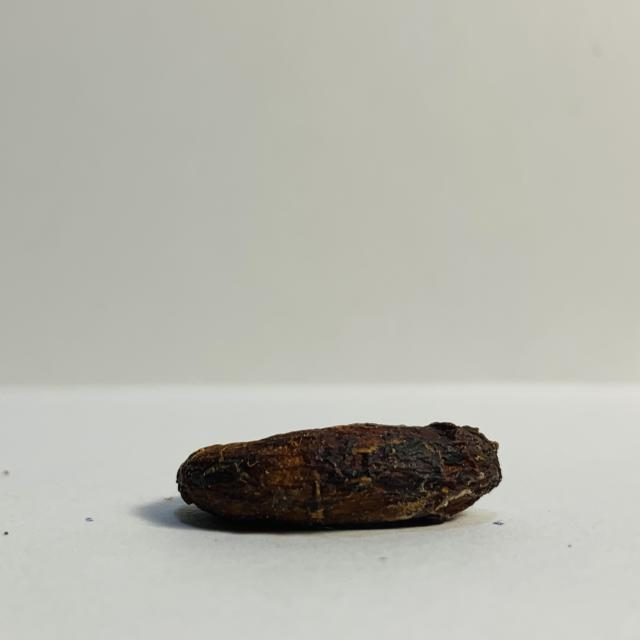Fine_cocoabeans: (101, 371, 542, 560)
